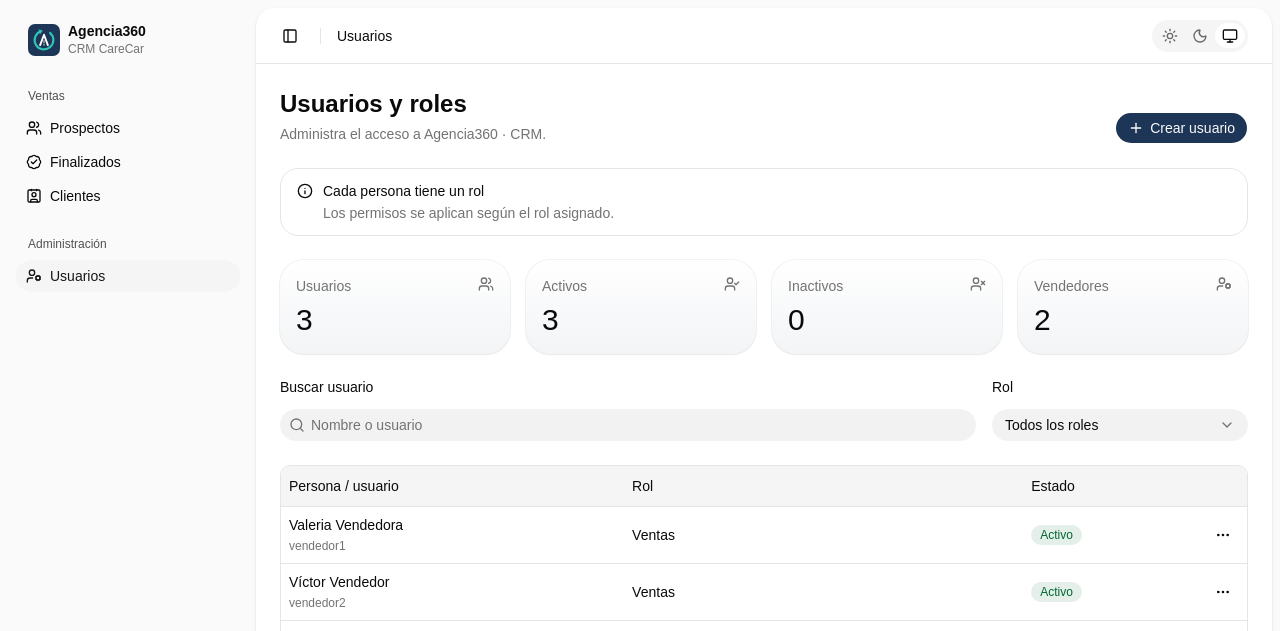
Administración de usuarios del CRM › solo ofrece roles con acceso al CRM
Check: the text "Valeria Vendedora" is shown, box [289, 517, 403, 533]
Click the button "Crear usuario". click: (1182, 128)
box: [1115, 112, 1248, 144]
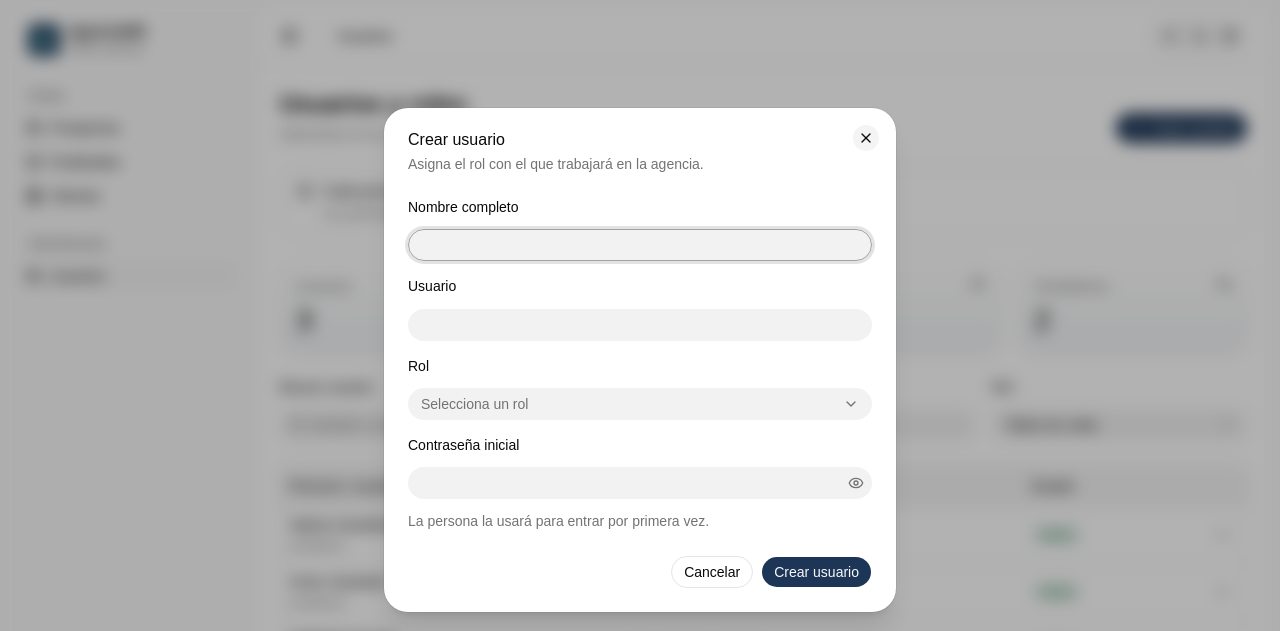
Click the dropdown labelled "rol". click: (475, 404)
box: [408, 388, 872, 420]
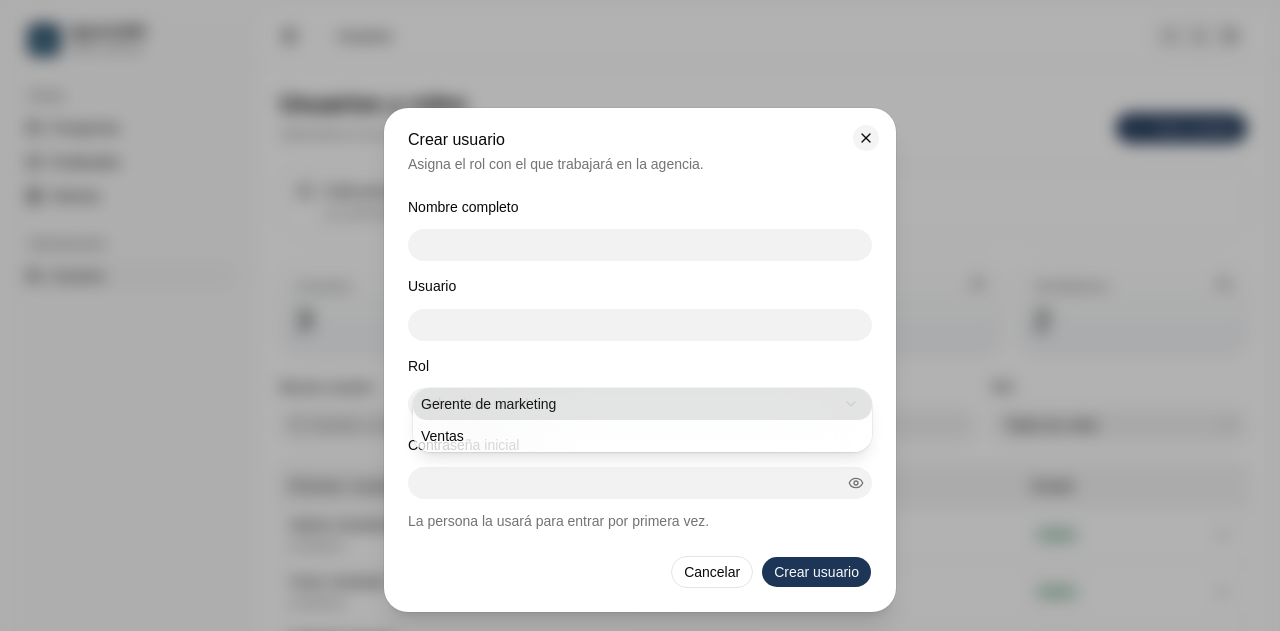
Check: the options read "Gerente de marketing", "Ventas", in this order, box [413, 388, 872, 420]; [421, 428, 464, 444]
